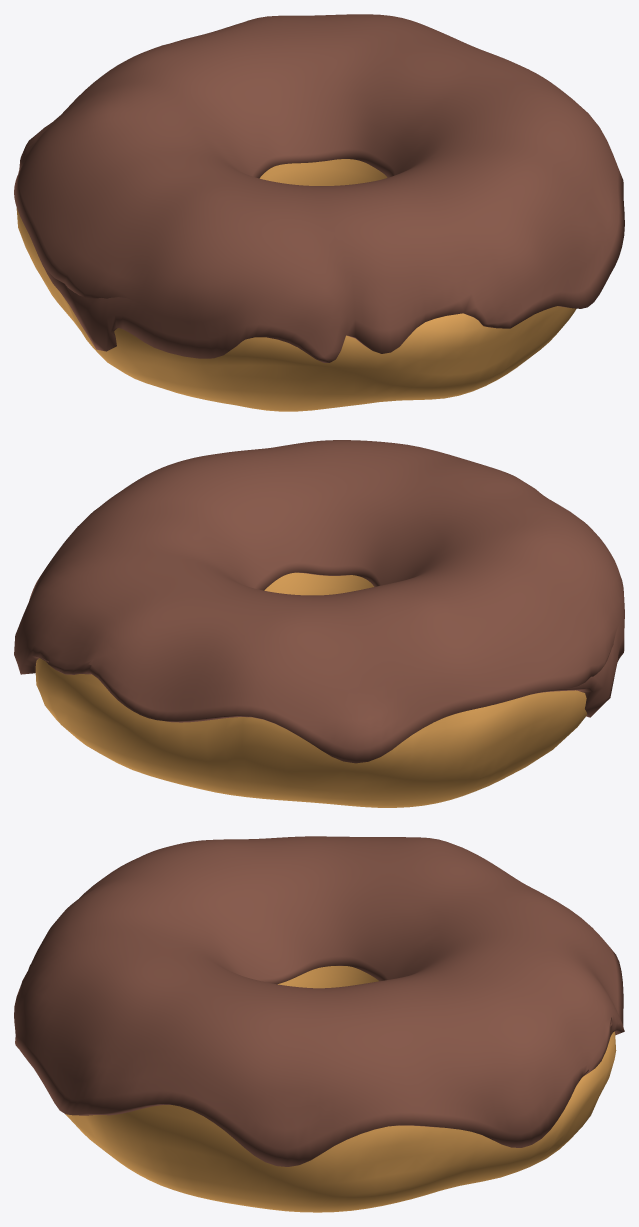
File: donut.glb
The picture shows the model from 3 angles, top to bottom: view 1: azimuth 30°, elevation 25°; view 2: azimuth 150°, elevation 25°; view 3: azimuth 270°, elevation 25°; orthographic projection. The views are drawn at different scales.
Parts seen in each view (by area): view 1: Icing, Donut; view 2: Icing, Donut; view 3: Icing, Donut.
Boxes of the visible parts, <box> form: Icing: <box>14,14,624,362</box>; Donut: <box>16,159,576,411</box>; Icing: <box>14,440,624,763</box>; Donut: <box>35,572,586,807</box>; Icing: <box>14,836,624,1166</box>; Donut: <box>65,966,616,1212</box>.
Size of what is drawn, in the model's own units: 0.1074 by 0.0439 by 0.108.
